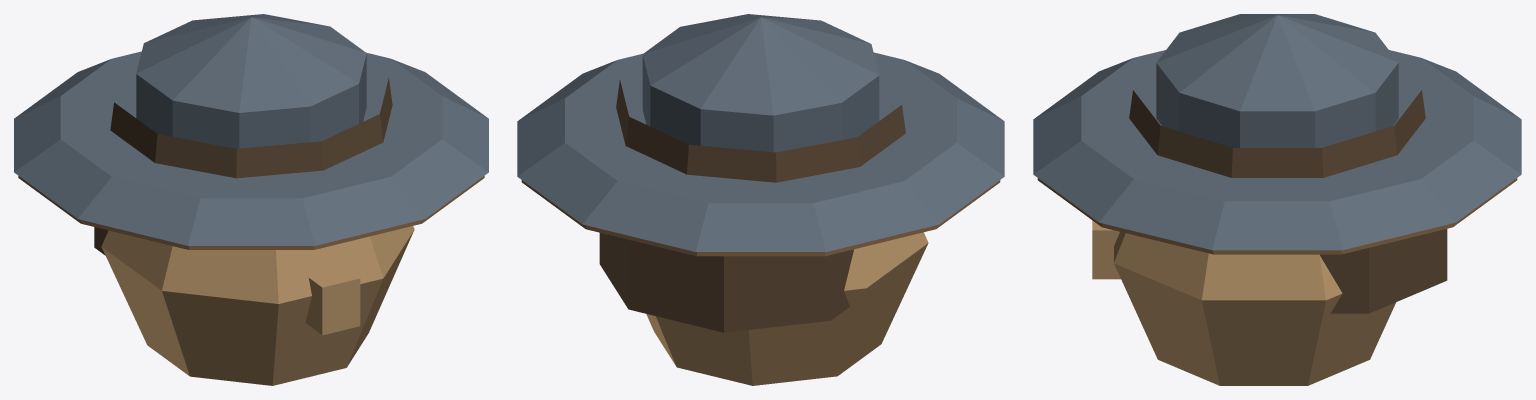
Rendered from villager-head-felthat-band.glb.
3 views of the same model, side by side, from view 1: azimuth 30°, elevation 25°; view 2: azimuth 150°, elevation 25°; view 3: azimuth 270°, elevation 25° (orthographic). The views are drawn at different scales.
Visible parts, largest first — view 1: head; view 2: head; view 3: head.
Boxes of the visible parts, box(x1,y1,x2,y2) form: head: box(14, 14, 488, 385); head: box(517, 14, 1004, 385); head: box(1033, 14, 1521, 385).
Size of the model in its own units: 1.08 by 0.9025 by 1.08.
Materials: 1 (1 with a texture image).
